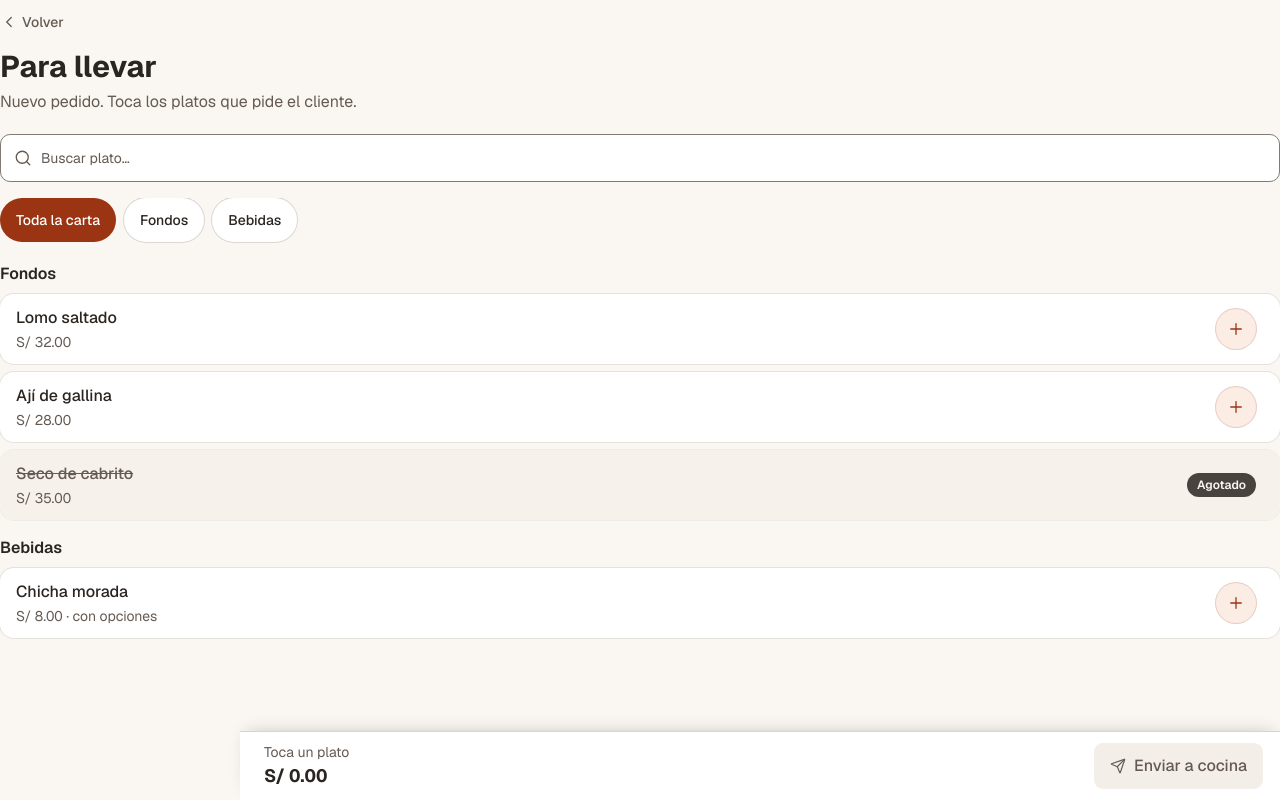
Test: las opciones de un plato › la combinación elegida viaja con el pedido
What coordinates should you click on to do the following:
click the button "Chicha morada S/ 8.00 · con opciones"
I would click on:
 (72, 591)
Its box is [0,568,1272,638].
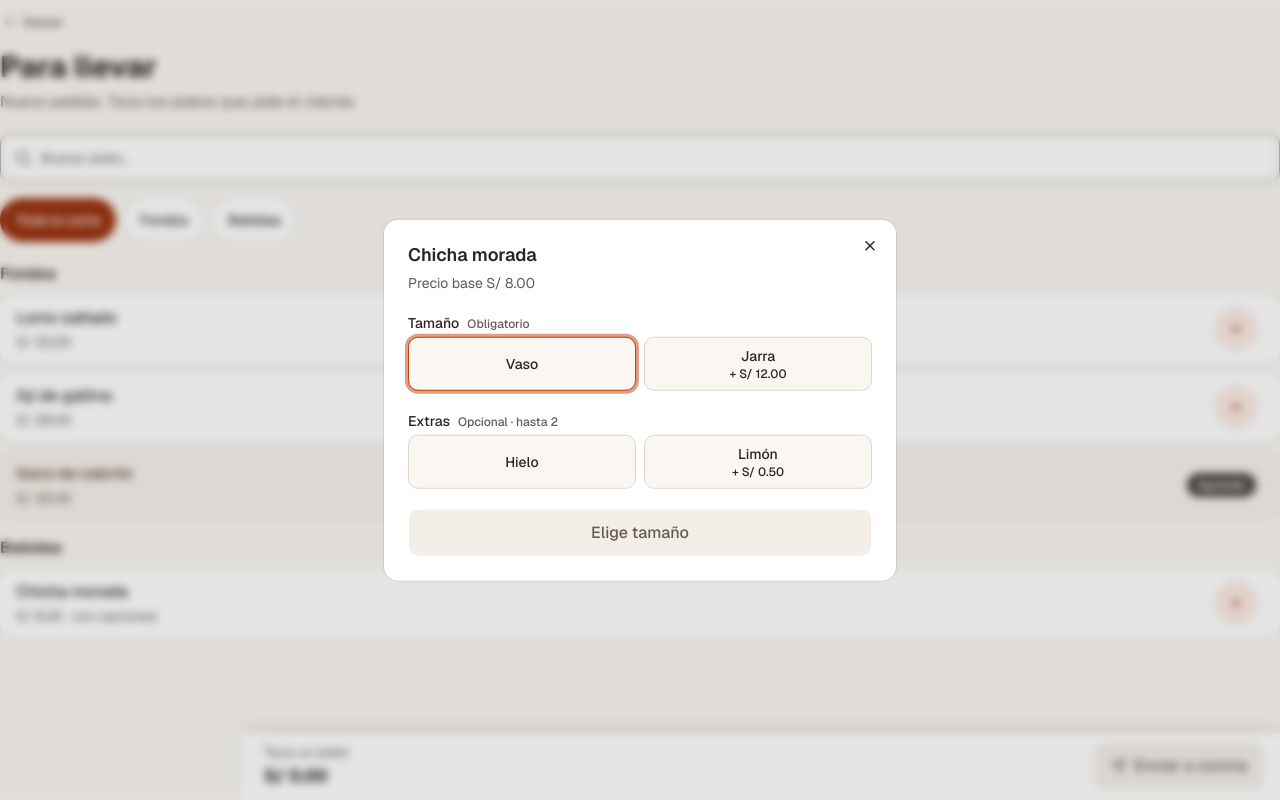
What coordinates should you click on to do the following:
click the button "Vaso"
I would click on:
 (522, 363)
Its box is [408,336,636,390].
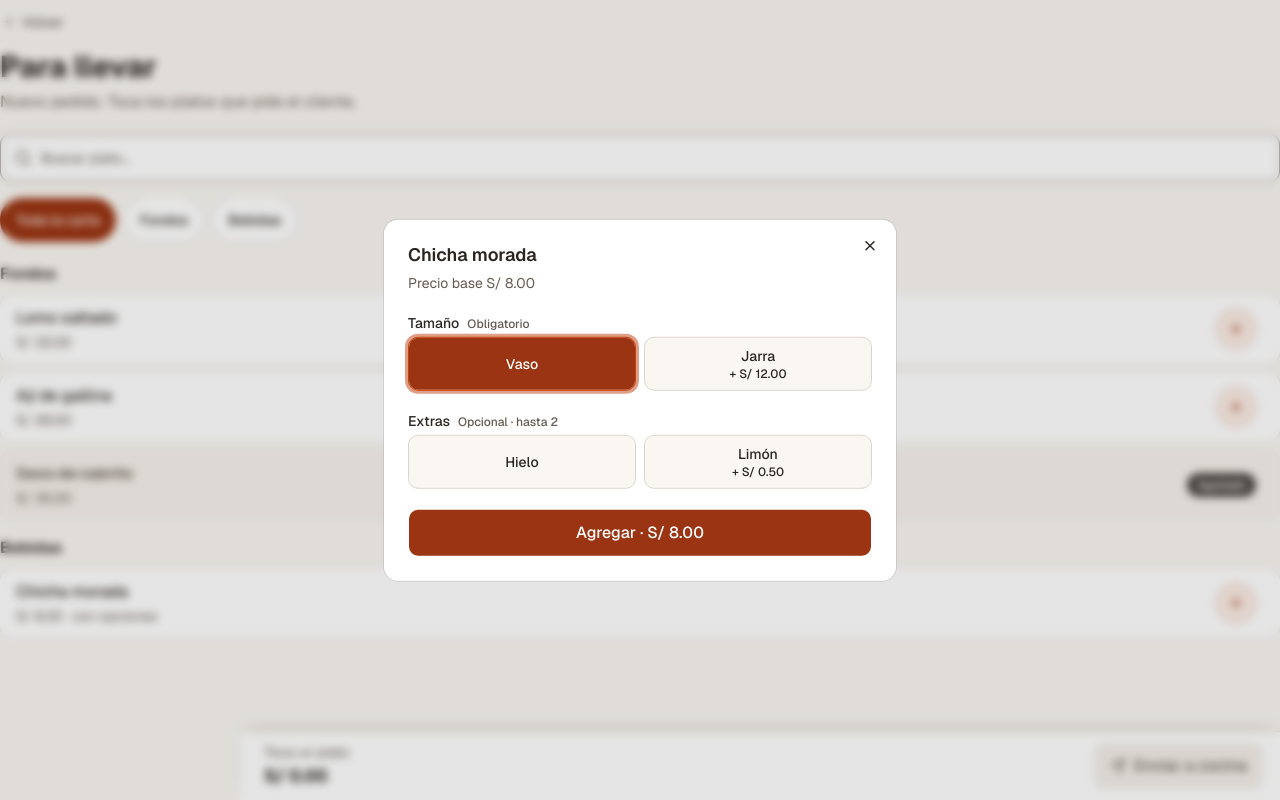
What coordinates should you click on to do the following:
click the button "Agregar · S/ 8.00"
I would click on:
 (640, 532)
Its box is [408,508,872,556].
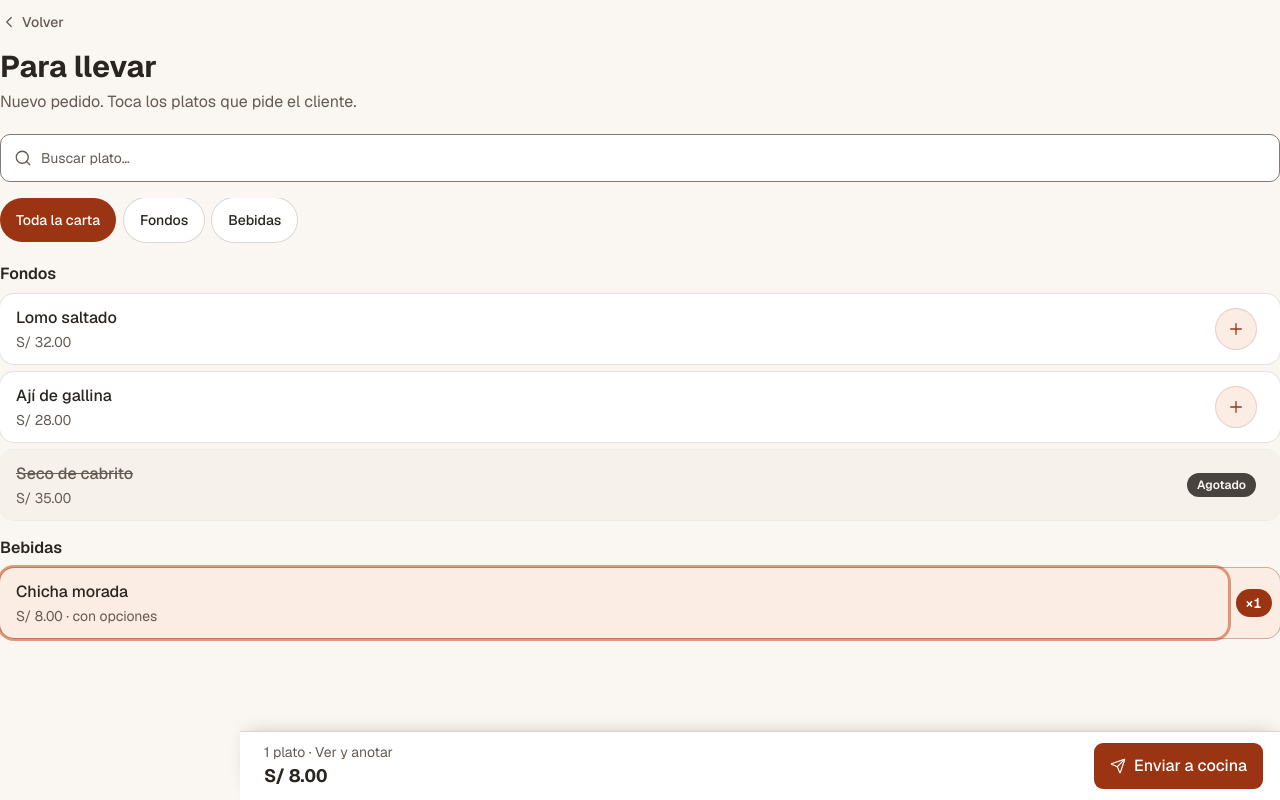
What coordinates should you click on to do the following:
click the button "Enviar a cocina"
I would click on:
 (1178, 766)
Its box is [1093,742,1264,790].
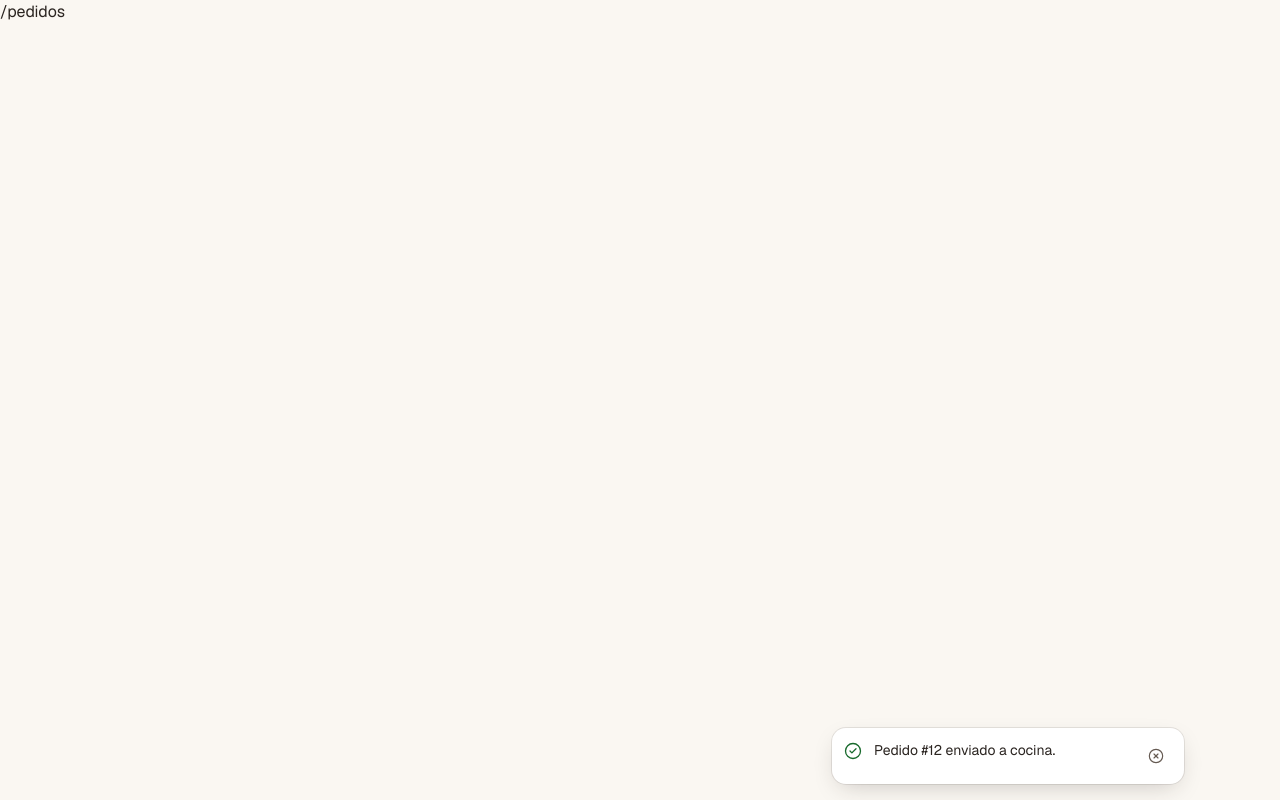
Result: the text "Pedido #12 enviado a cocina." is shown at [874,741,1055,759]
